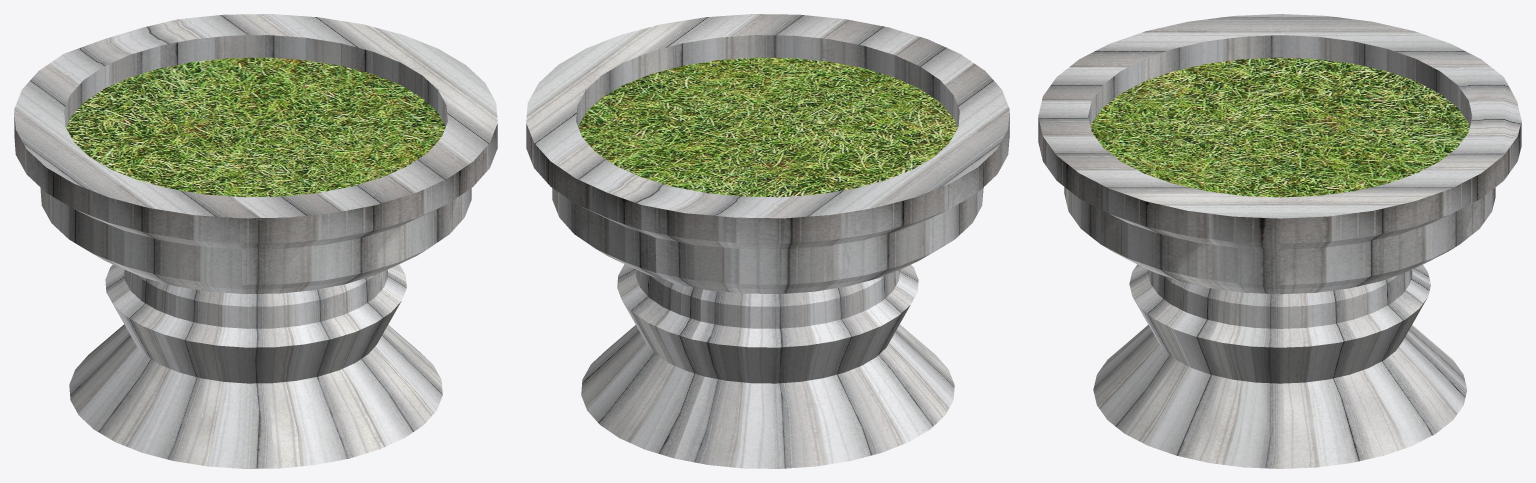
File: Gorshok123.fbx
3 renders of one model, left to right at view 1: azimuth 30°, elevation 25°; view 2: azimuth 150°, elevation 25°; view 3: azimuth 270°, elevation 25°, orthographic.
Visible parts, largest first — view 1: Цилиндр.001; view 2: Цилиндр.001; view 3: Цилиндр.001.
Boxes of the visible parts, x1,y1,x2,y2 form: Цилиндр.001: (14, 14, 497, 468); Цилиндр.001: (526, 14, 1009, 468); Цилиндр.001: (1038, 14, 1521, 468).
Bounding box in the file's own units: 211 × 131 × 211.
2 materials, 2 textured.
